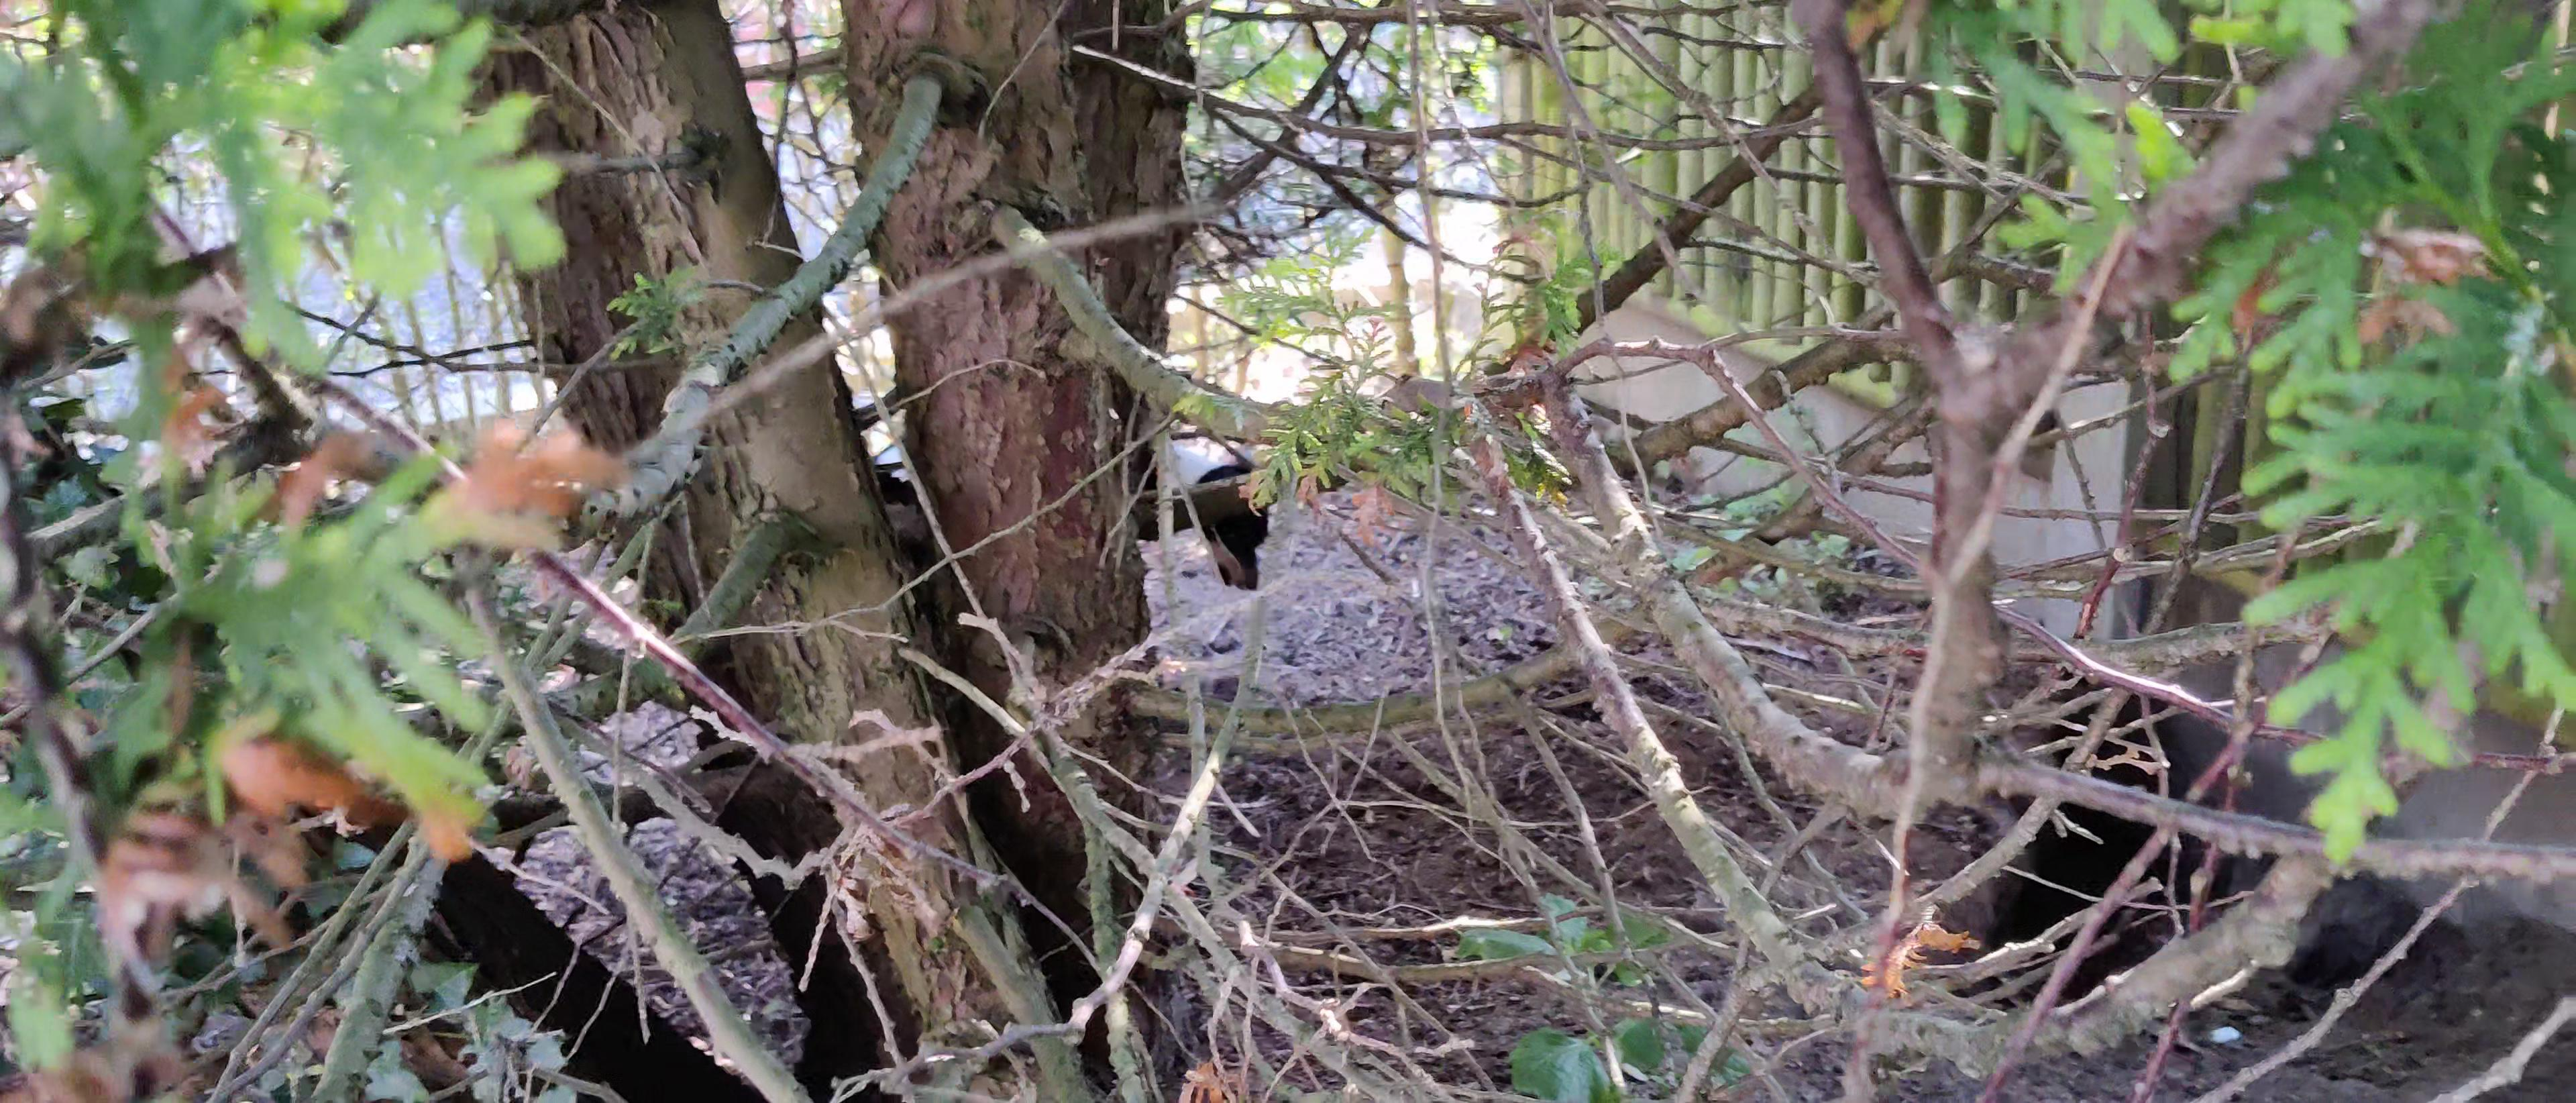Dog: (1127, 413, 1301, 661)
